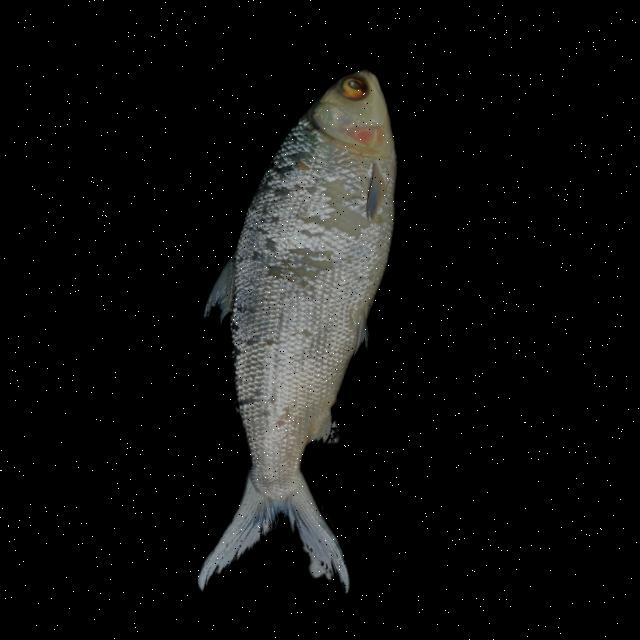665 g: (155, 47, 439, 616)
